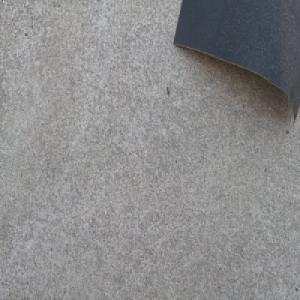PaintChip: (171, 0, 300, 126)
